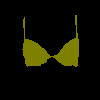reggiseno: (22, 15, 79, 67)
